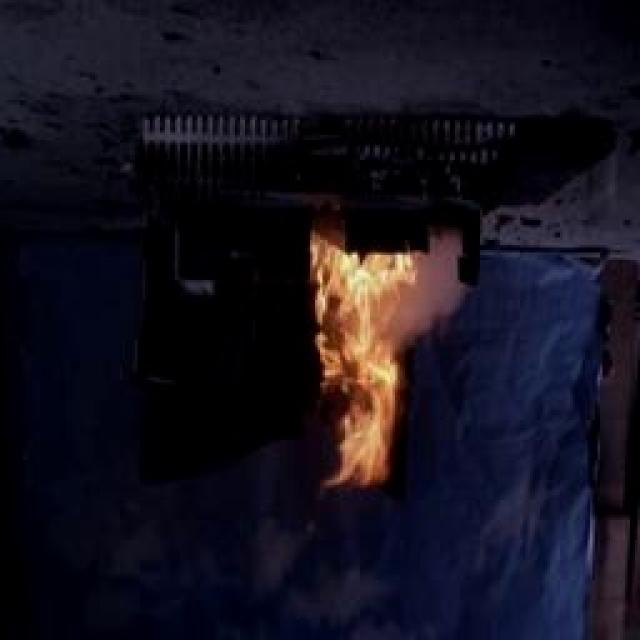fire: (296, 228, 439, 512)
